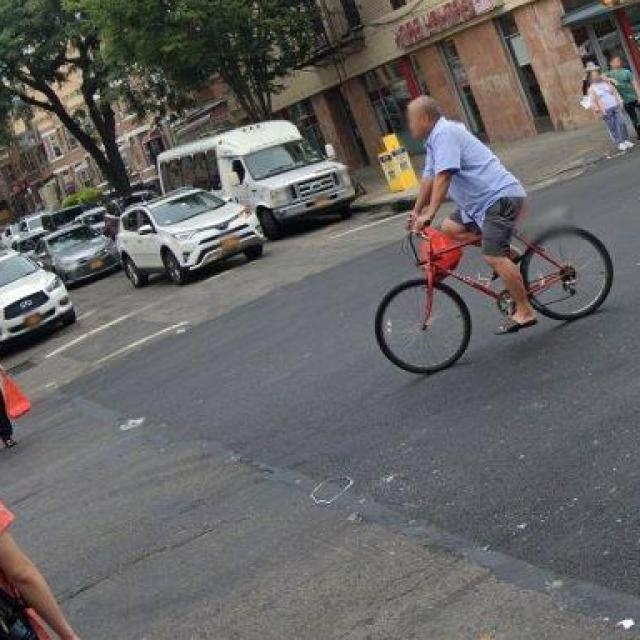bicycle: (359, 154, 621, 418)
car: (108, 173, 270, 283), (4, 231, 88, 362)
